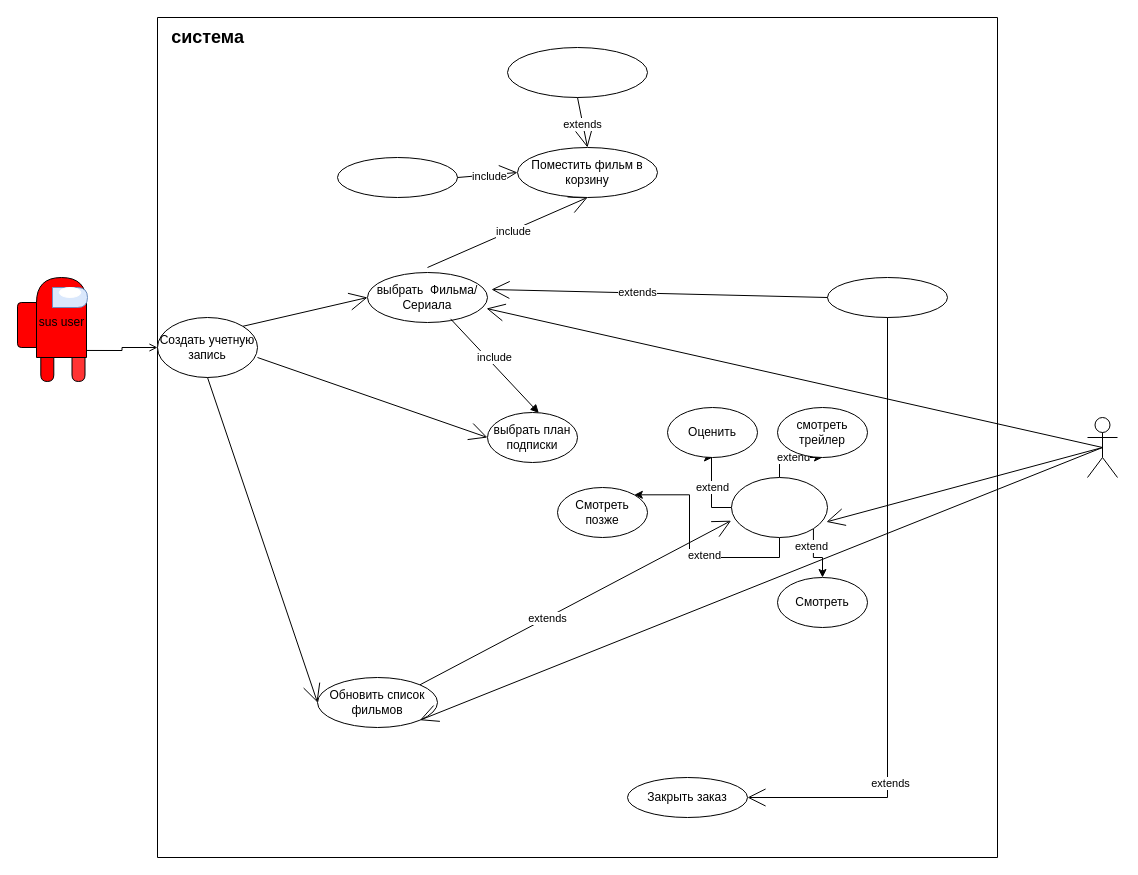
Image size: 1138x875. Some labels were removed from this diagram. Each missing label, with the centre of its shape:
Admin: the point at 1102,447
Выбрать фильма: the point at 397,177
Информация О фильме/сериале: the point at 779,507
Отменить заказ: the point at 887,297
Удалить фильма из корзины: the point at 577,72
